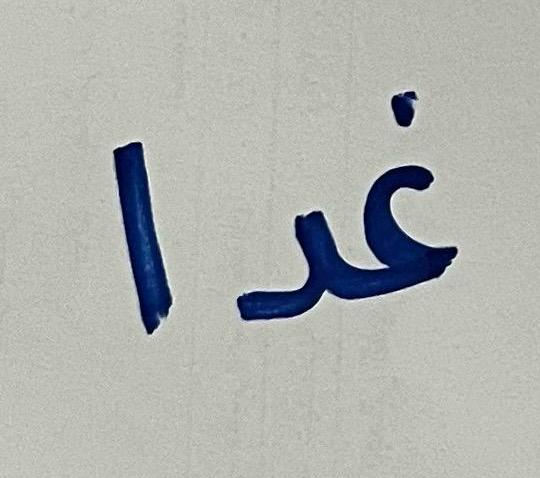ghain: (84, 91, 188, 371)
noon: (194, 155, 349, 369)
tah: (351, 78, 503, 373)
